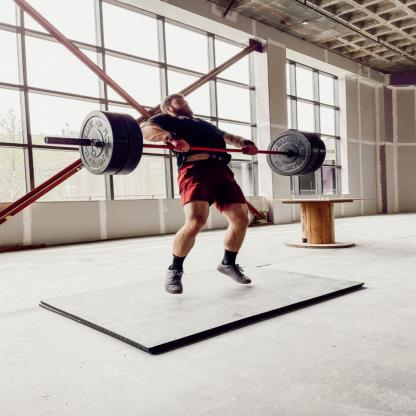Barbell: (72, 110, 128, 178)
